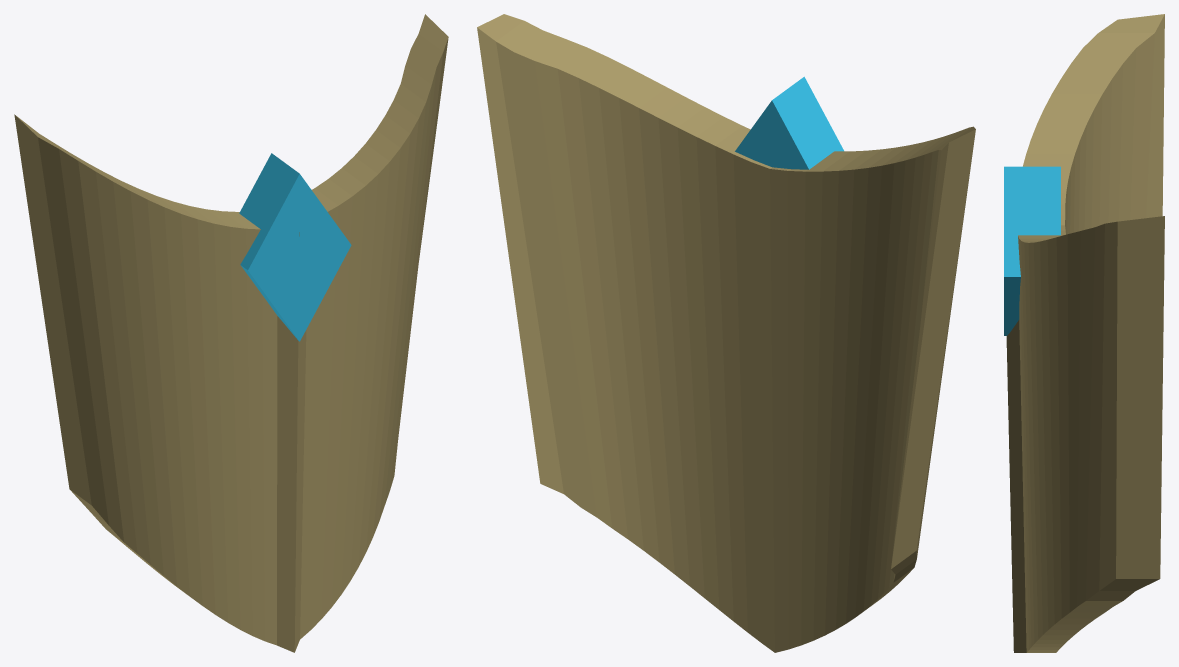
The model's file is Shield.fbx.
3 views of the same model, side by side, from view 1: azimuth 30°, elevation 25°; view 2: azimuth 150°, elevation 25°; view 3: azimuth 270°, elevation 25° (orthographic). The views are drawn at different scales.
Parts seen in each view (by area): view 1: Cube; view 2: Cube; view 3: Cube.
Part boxes in pixels (box(x1,y1,x2,y2)): Cube: box(14, 14, 448, 652); Cube: box(477, 14, 975, 652); Cube: box(1004, 14, 1164, 652).
Bounding box in the file's own units: 2 × 2.49 × 0.6748.
